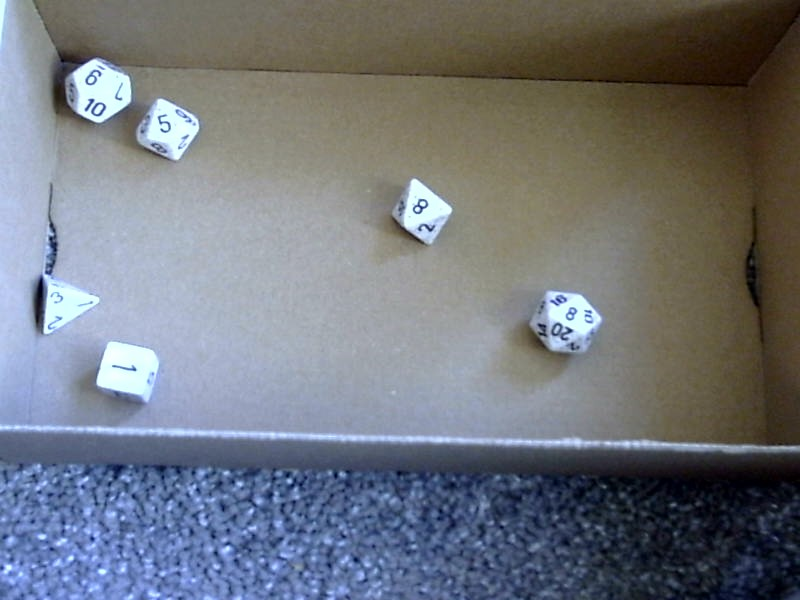d10 5: (133, 94, 200, 171)
d12 9: (58, 45, 133, 128)
d20 8: (519, 283, 605, 361)
d4 3: (33, 265, 100, 344)
d6 1: (92, 339, 164, 410)
d8 8: (381, 174, 463, 248)
